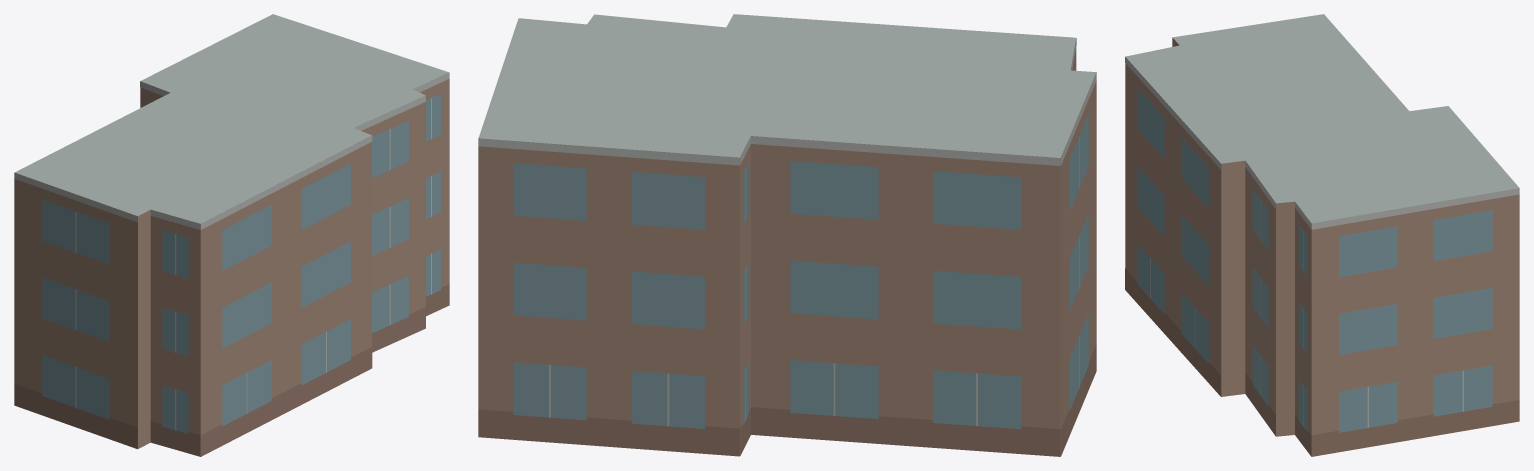
File: survey-upis-32848739.glb
The picture shows the model from 3 angles, left to right: view 1: azimuth 30°, elevation 25°; view 2: azimuth 150°, elevation 25°; view 3: azimuth 270°, elevation 25°; orthographic projection. The views are drawn at different scales.
Parts seen in each view (by area): view 1: survey-upis-32848739.tmp; view 2: survey-upis-32848739.tmp; view 3: survey-upis-32848739.tmp.
Part boxes in pixels (x1=…): survey-upis-32848739.tmp: x1=14, y1=14, x2=449, y2=456; survey-upis-32848739.tmp: x1=478, y1=14, x2=1096, y2=456; survey-upis-32848739.tmp: x1=1125, y1=14, x2=1519, y2=456.
Bounding box in the file's own units: 17.64 × 9.15 × 14.03.
